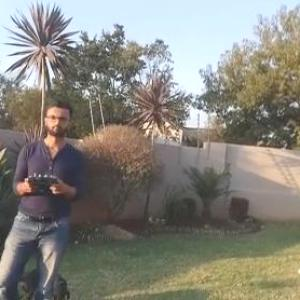follow: (0, 92, 87, 299)
